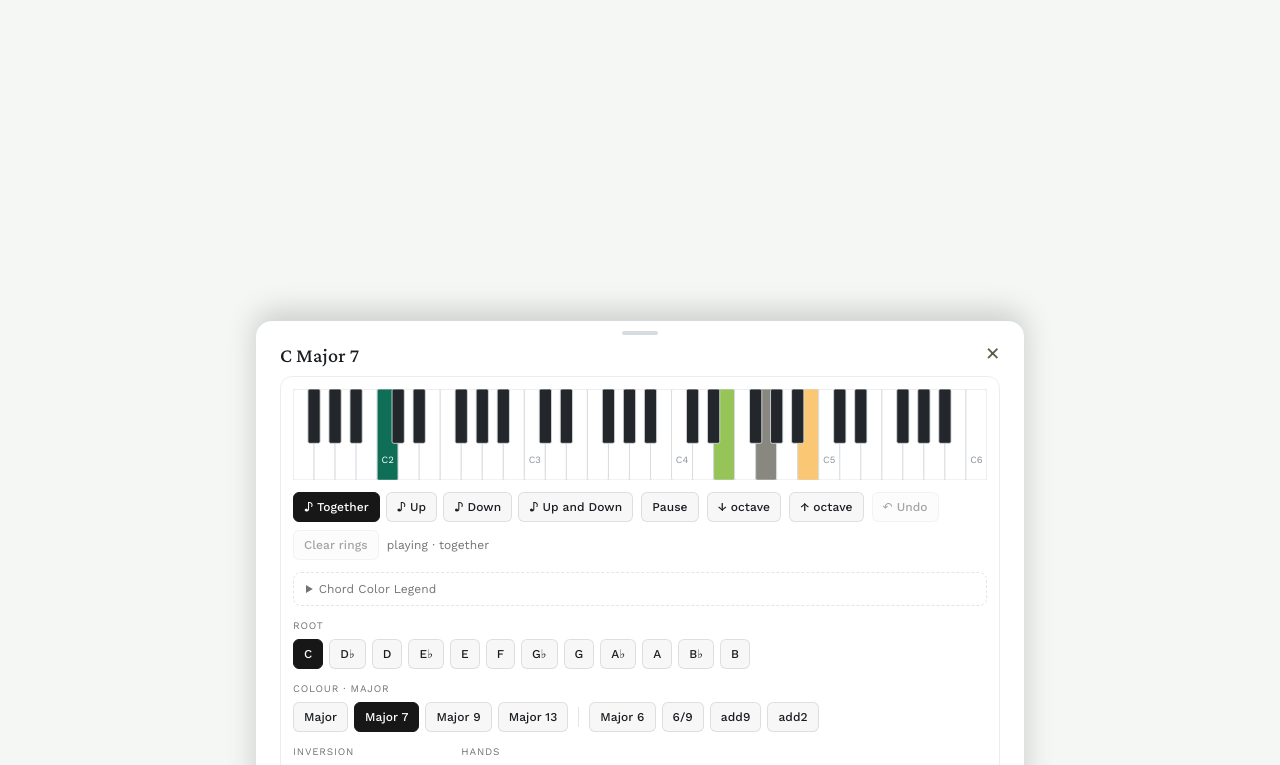
Test: the card's own rows (spec §4) › Back to the card resets all of it
Click the button "E♭" at (426, 654), box [408, 639, 444, 669]
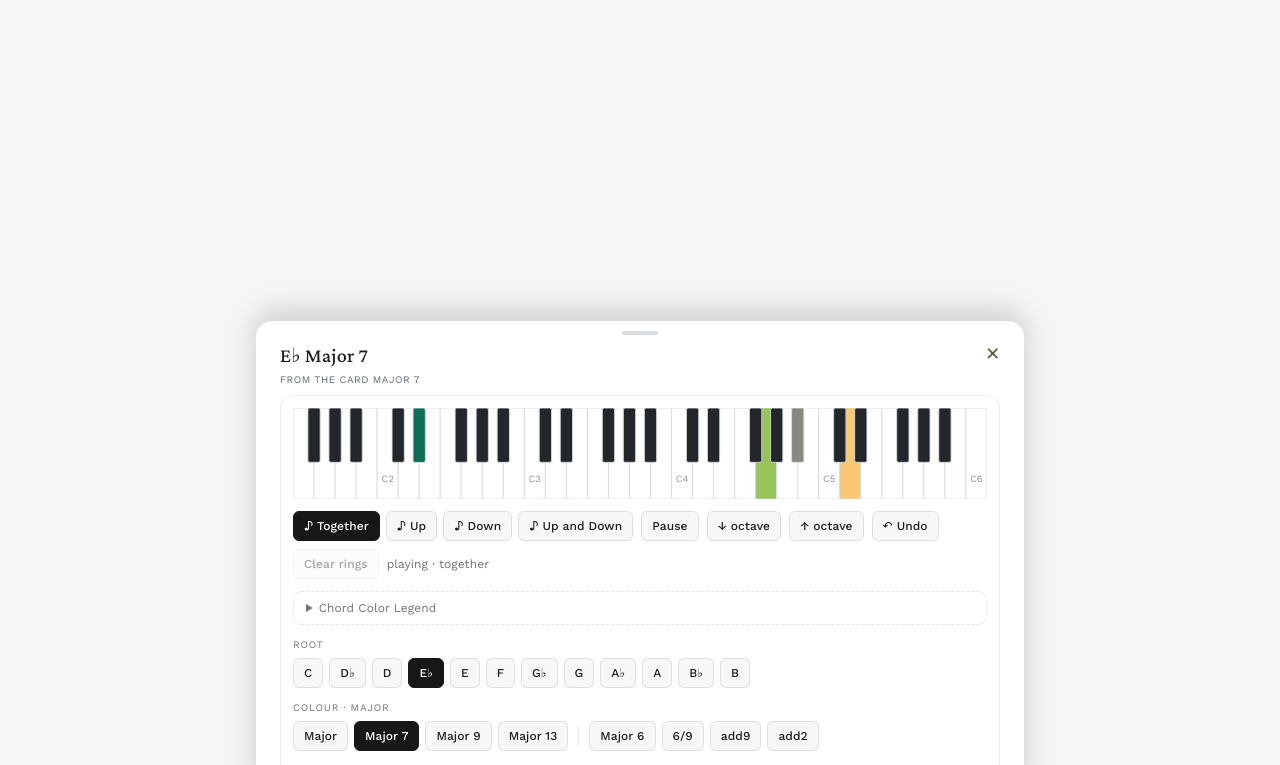
Click the button "Major 9" at (459, 736), box [425, 721, 492, 751]
(page scrolled)
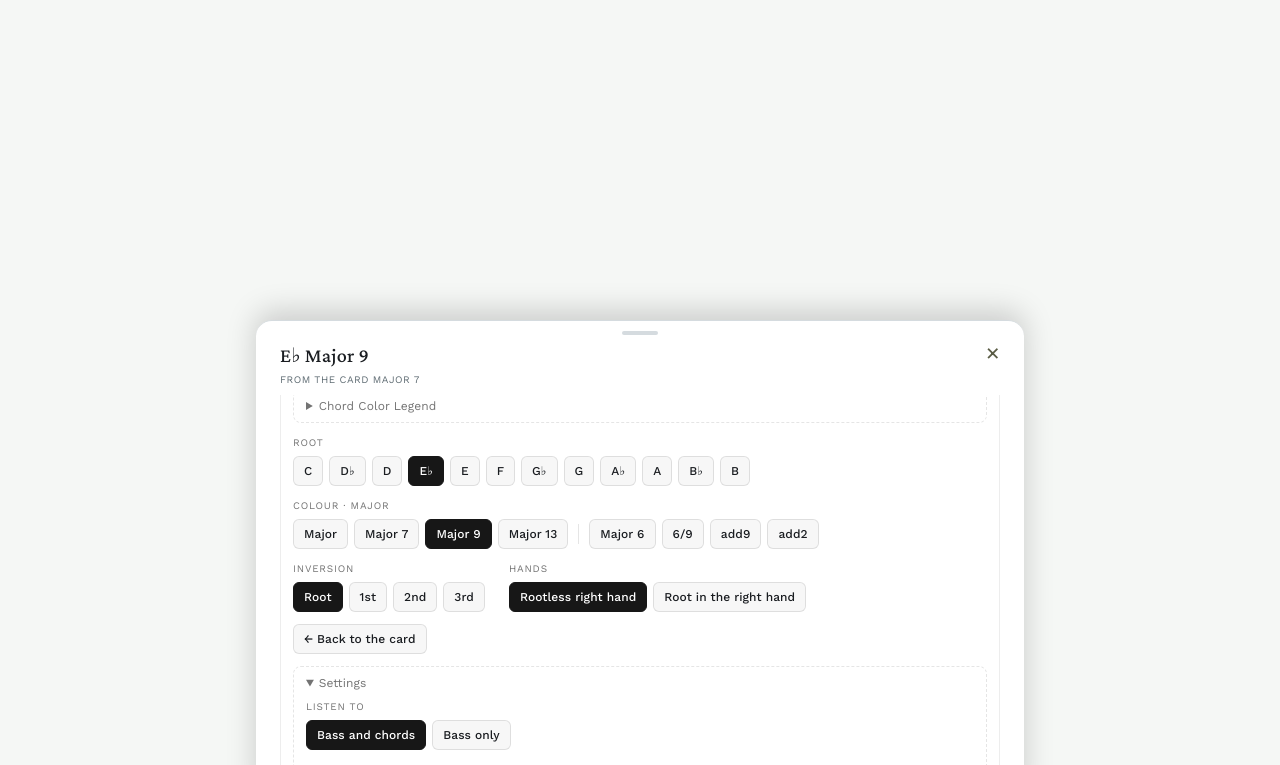
Click the button "1st" at (368, 597), box [349, 582, 387, 612]
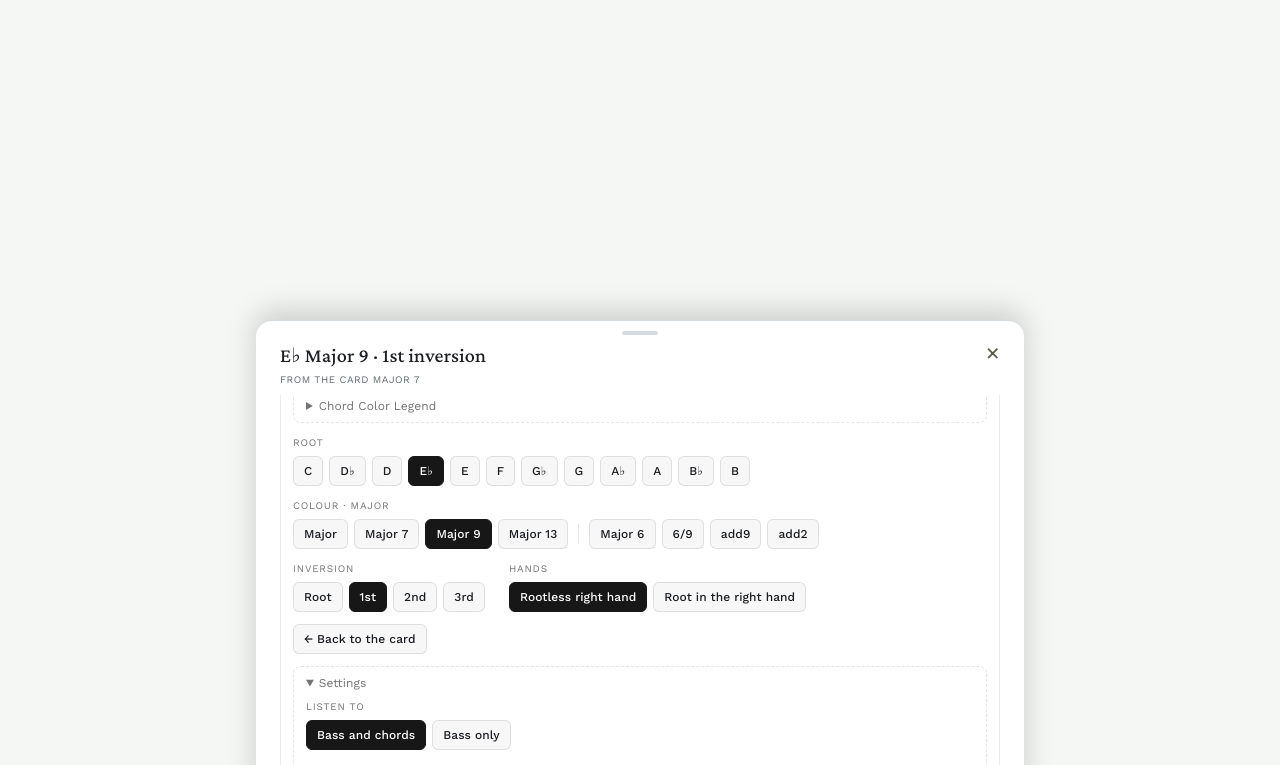
Now the heading "E♭ Major 9 · 1st inversion" is shown, box [280, 343, 486, 368]
Click the button "← Back to the card" at (360, 639), box [293, 624, 426, 654]
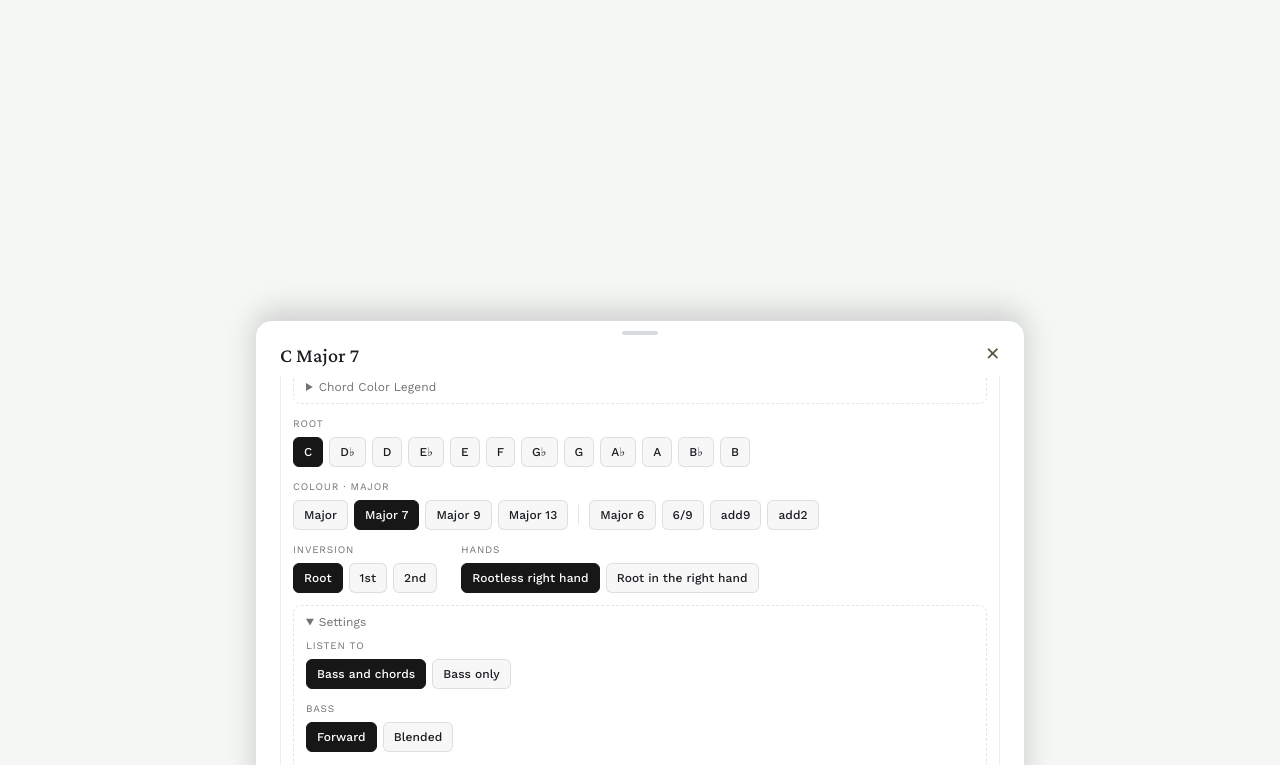
Now the heading "C Major 7" is shown, box [280, 343, 359, 368]
